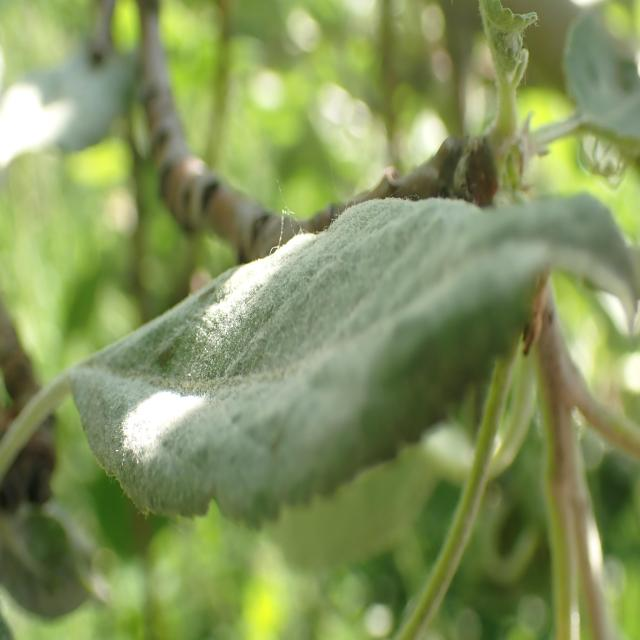Powdery_mildew: (57, 189, 634, 522)
